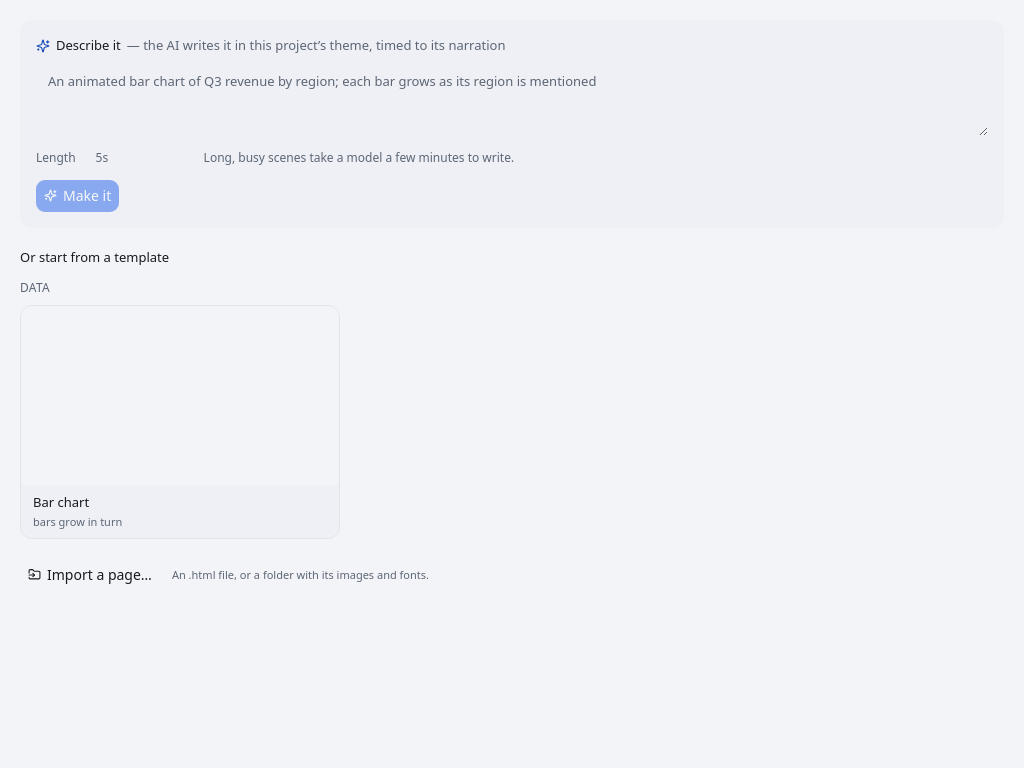
Test: starting an HTML scene › says why, when the model could not write one
Type "a chart" into the text box named "Describe the scene".
click(512, 100); type("a chart")  # box [36,64,988,136]
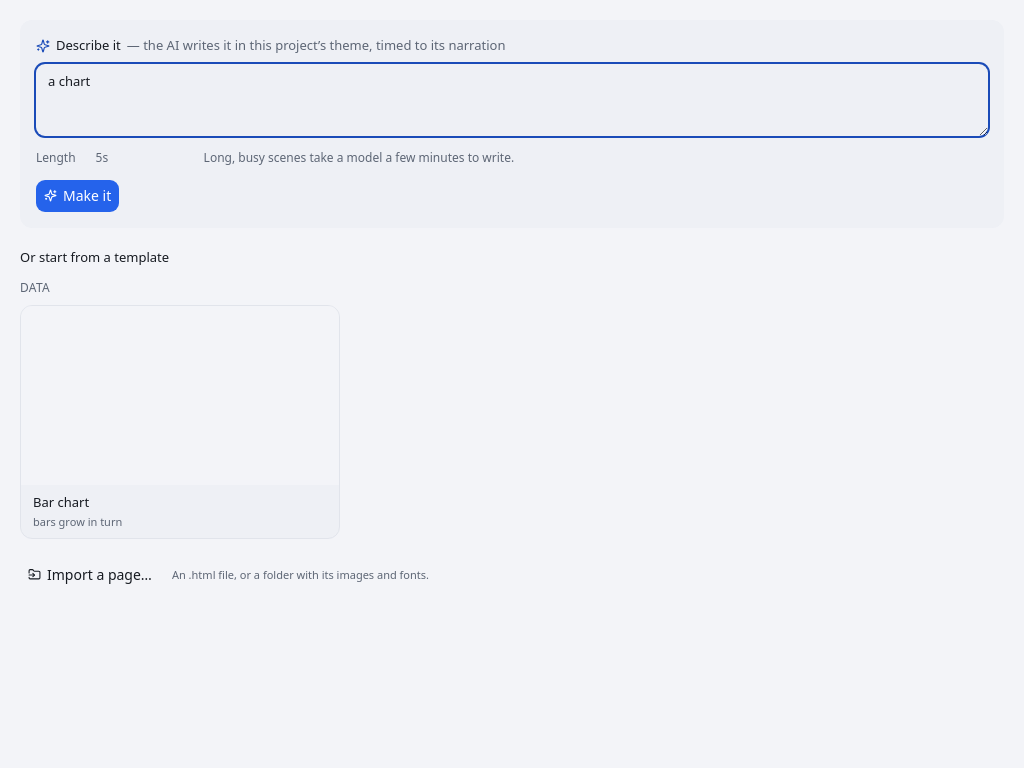
Click the button "Make it".
click(78, 196)  # box [36,180,119,212]
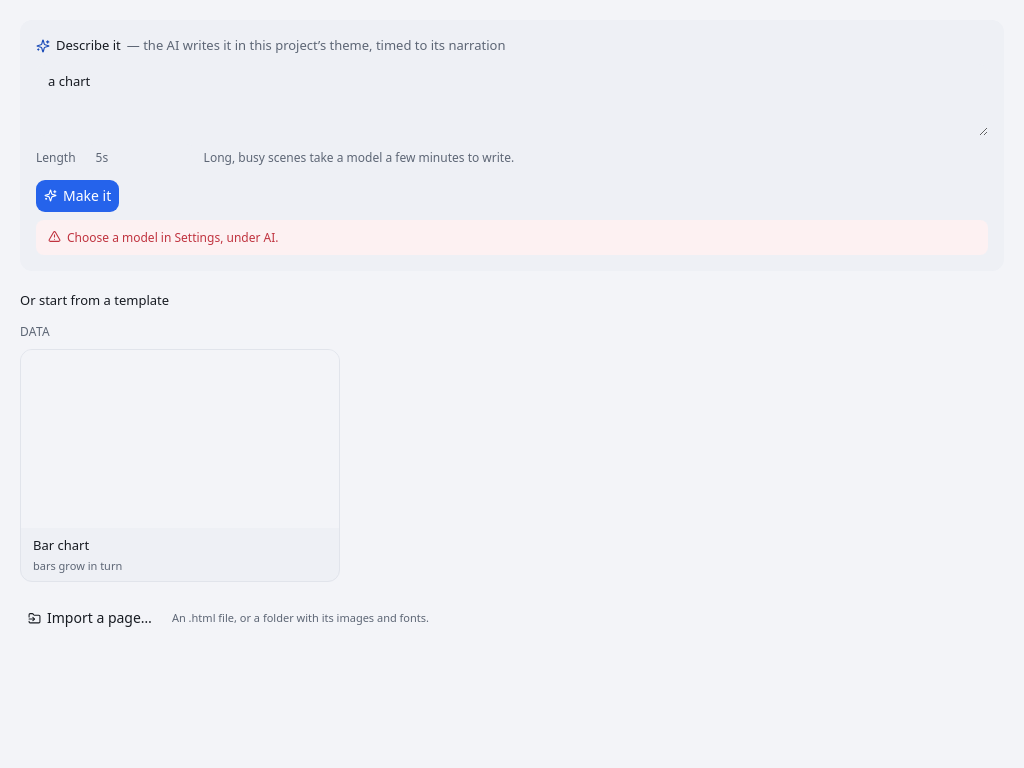
Now the message shows "Choose a model", box [67,228,278,246]
